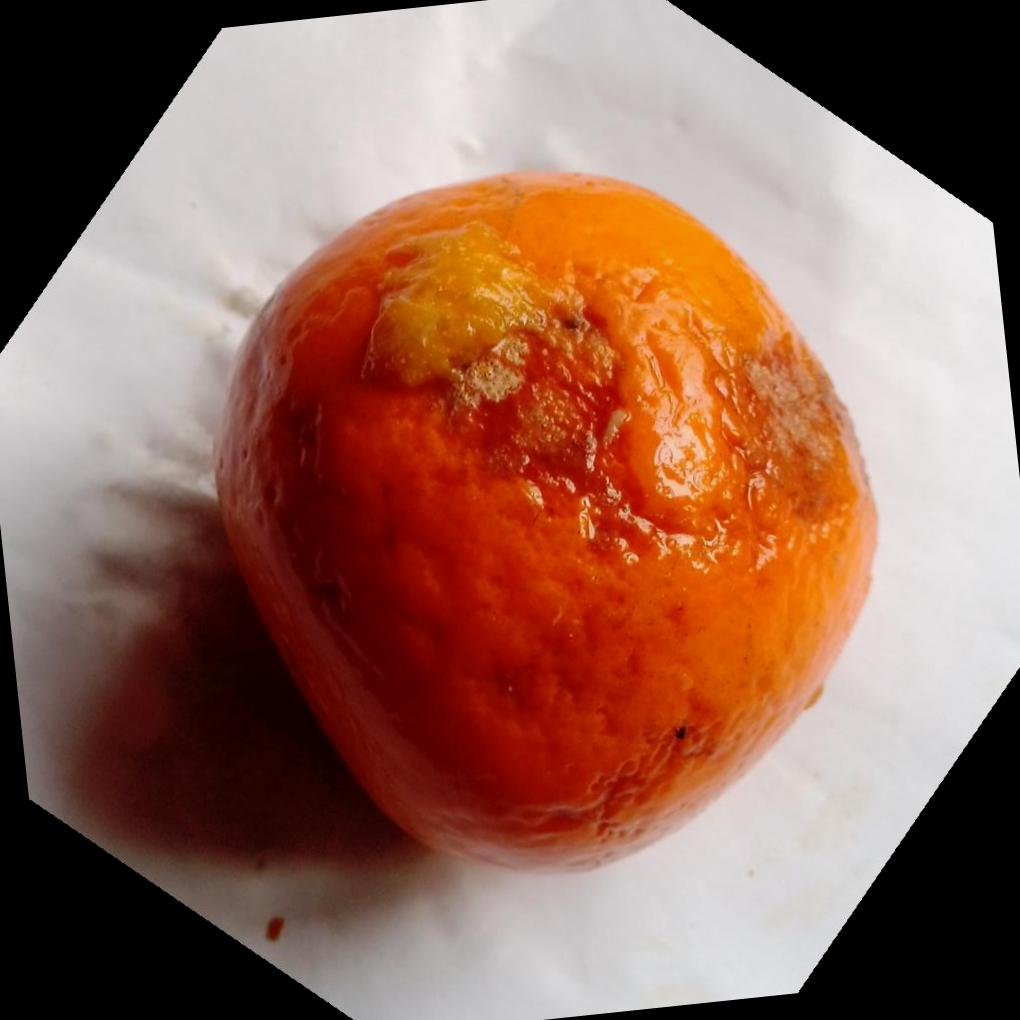FreshOrange: (208, 168, 876, 873)
